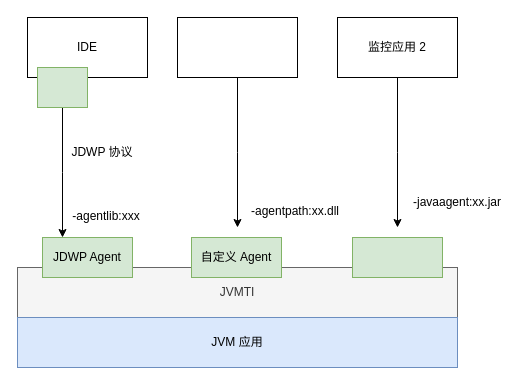
The diagram is 525 pixels wide and 385 high, and some of its shapes have lost their labels. Here are the shapes that lost their labels. From the top down, the centre of each, then its label:
the point at 237,47: 监控应用 1
the point at 62,87: JDI
the point at 397,257: javaagent
